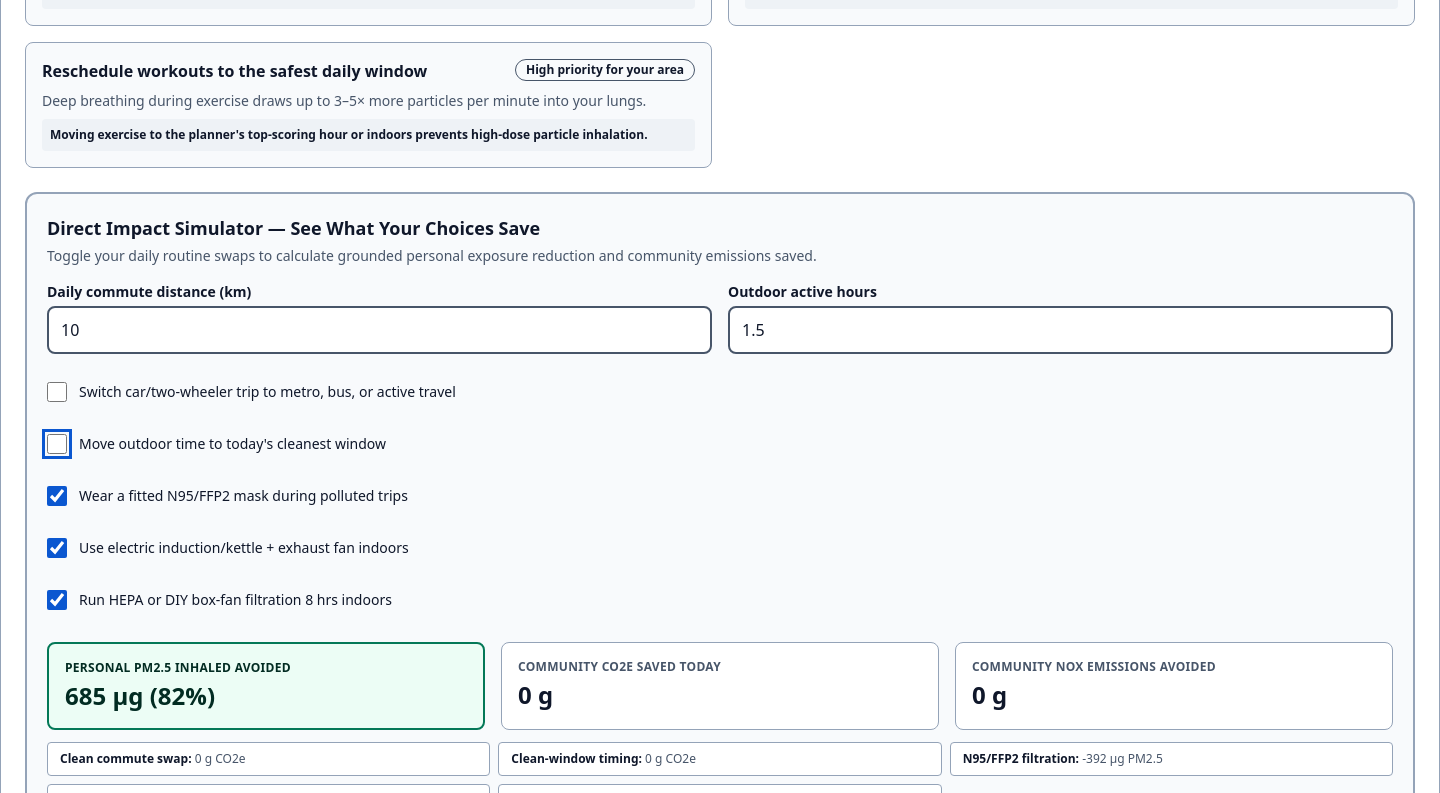
Scenario: RoutinesImpactSection calculates toggles, clamps inputs, and passes axe
Earlier steps of the test are not shown.
(page scrolled)
Step 1. Click the checkbox labelled "Wear a fitted N95/FFP2 mask during polluted trips" → [57, 496], box [47,486,67,506]
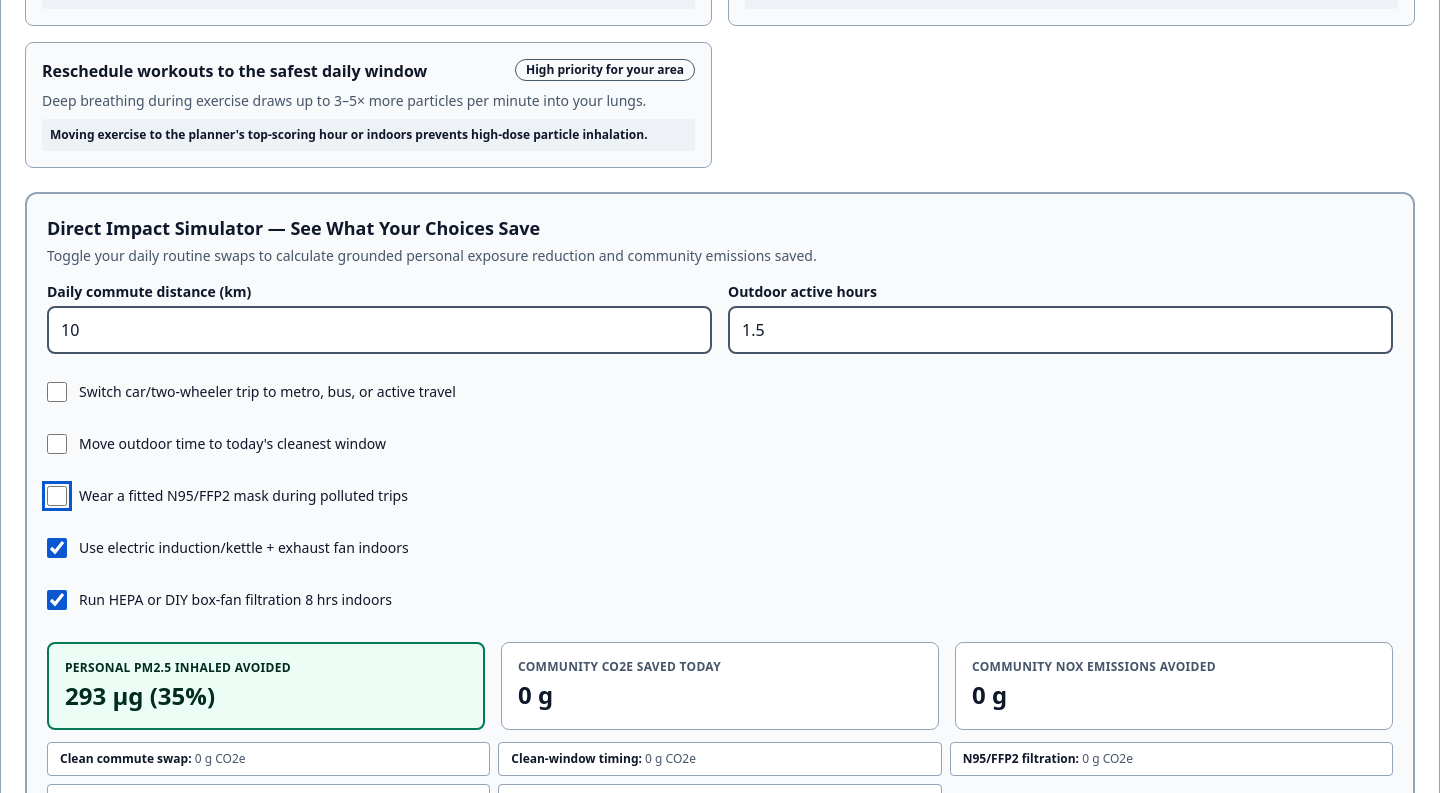
Step 2. Click the checkbox labelled "Use electric induction/kettle + exhaust fan indoors" → [57, 548], box [47,538,67,558]
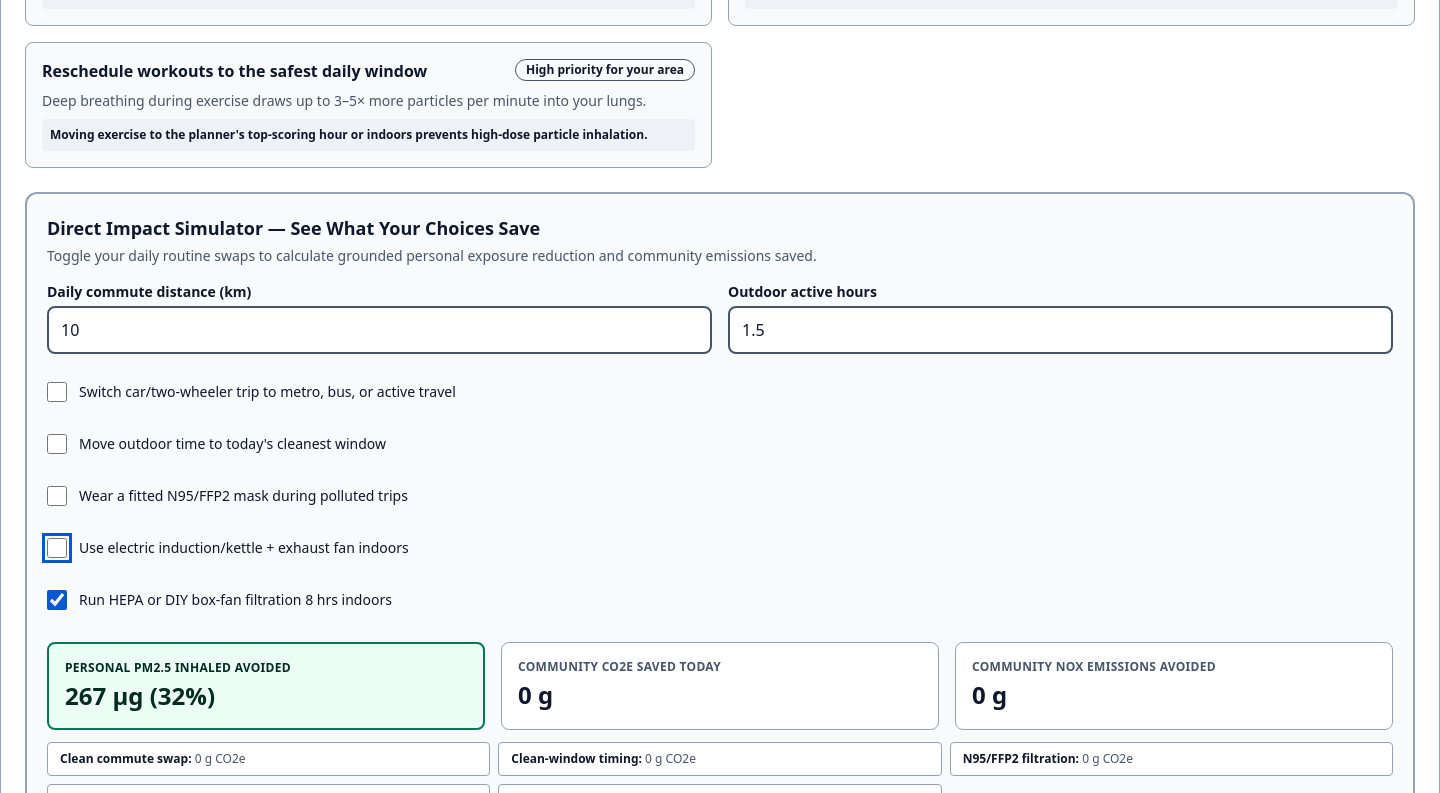
Step 3. Click the checkbox labelled "Run HEPA or DIY box-fan filtration 8 hrs indoors" → [57, 600], box [47,590,67,610]
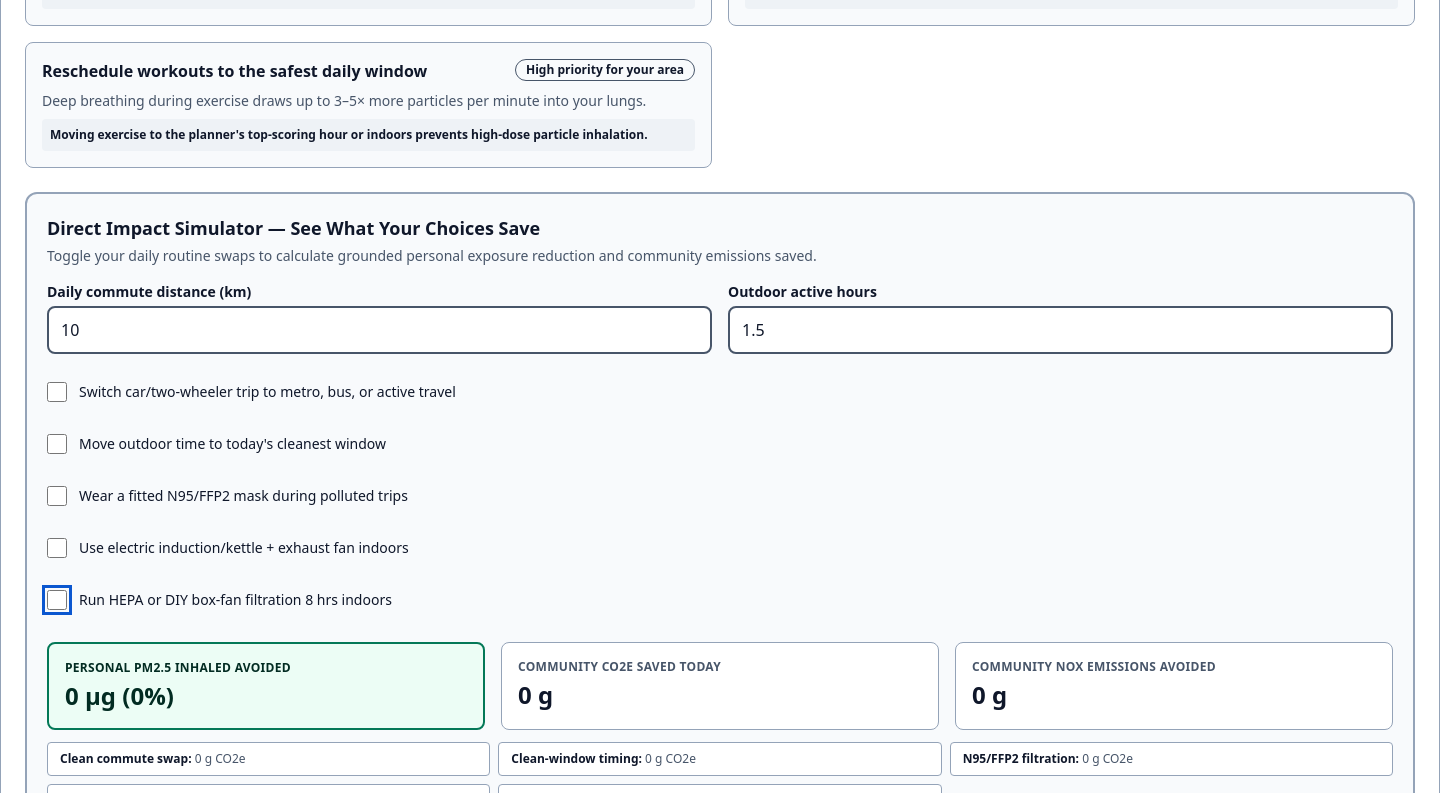
Step 4. Replace the text in the number field labelled "Daily commute distance (km)" with "200" → [380, 330], box [47,306,712,354]
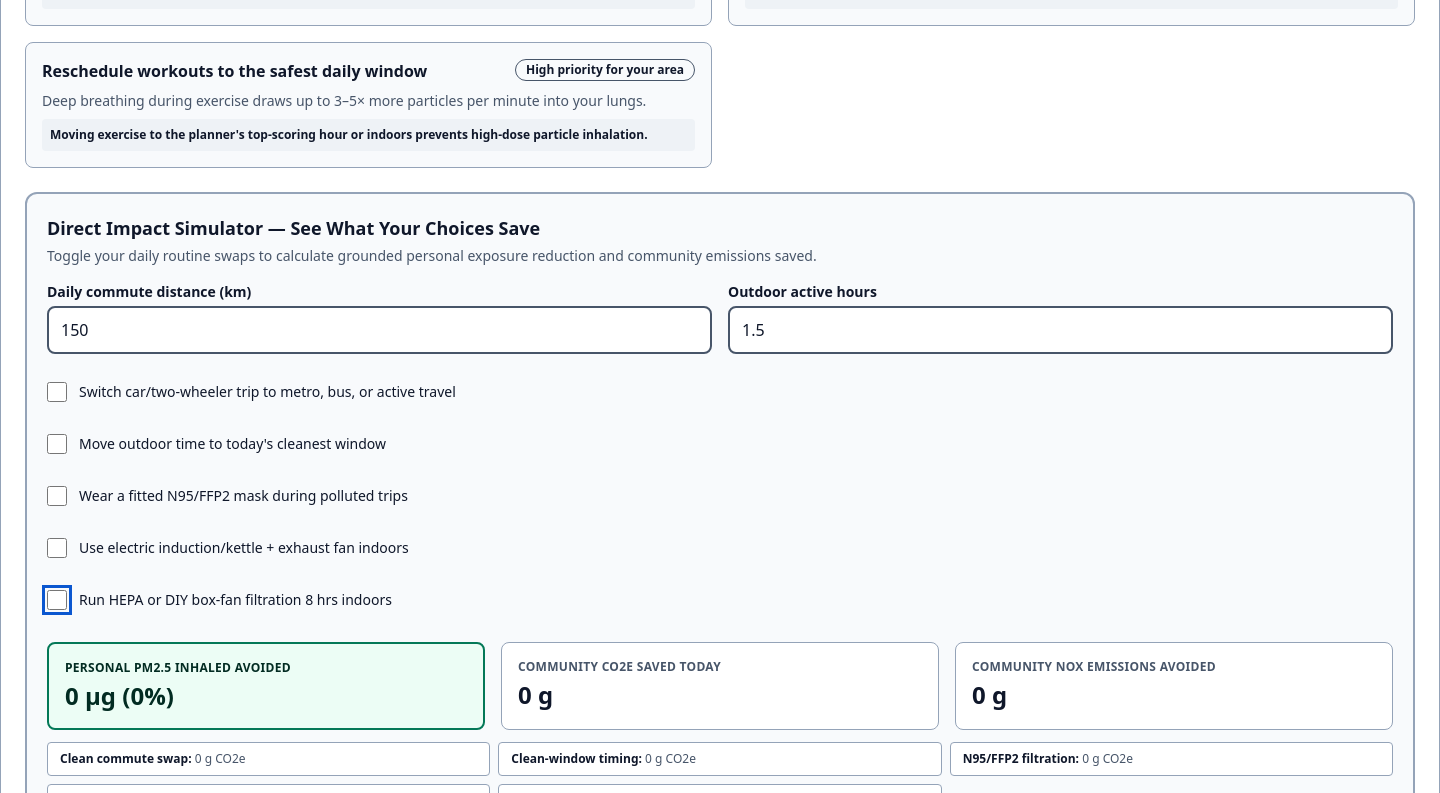
Expected: the number field labelled "Daily commute distance (km)" holds "150"
Step 5. Clear the number field labelled "Daily commute distance (km)" → [380, 330], box [47,306,712,354]
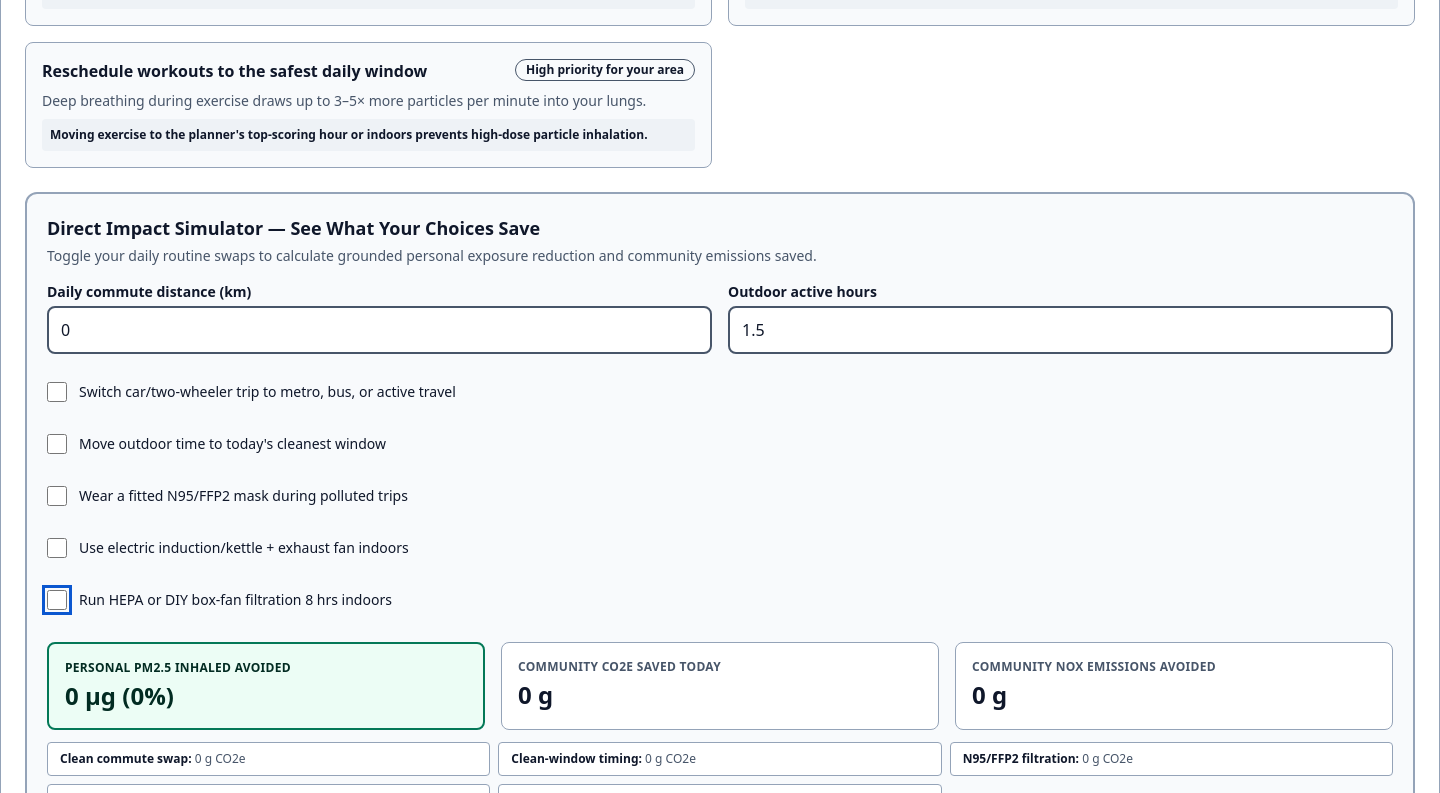
Expected: the number field labelled "Daily commute distance (km)" holds "0", [47,306,712,354]
Step 6. Replace the text in the number field labelled "Outdoor active hours" with "2" → [1060, 330], box [728,306,1393,354]
Step 7. Clear the number field labelled "Outdoor active hours" → [1060, 330], box [728,306,1393,354]
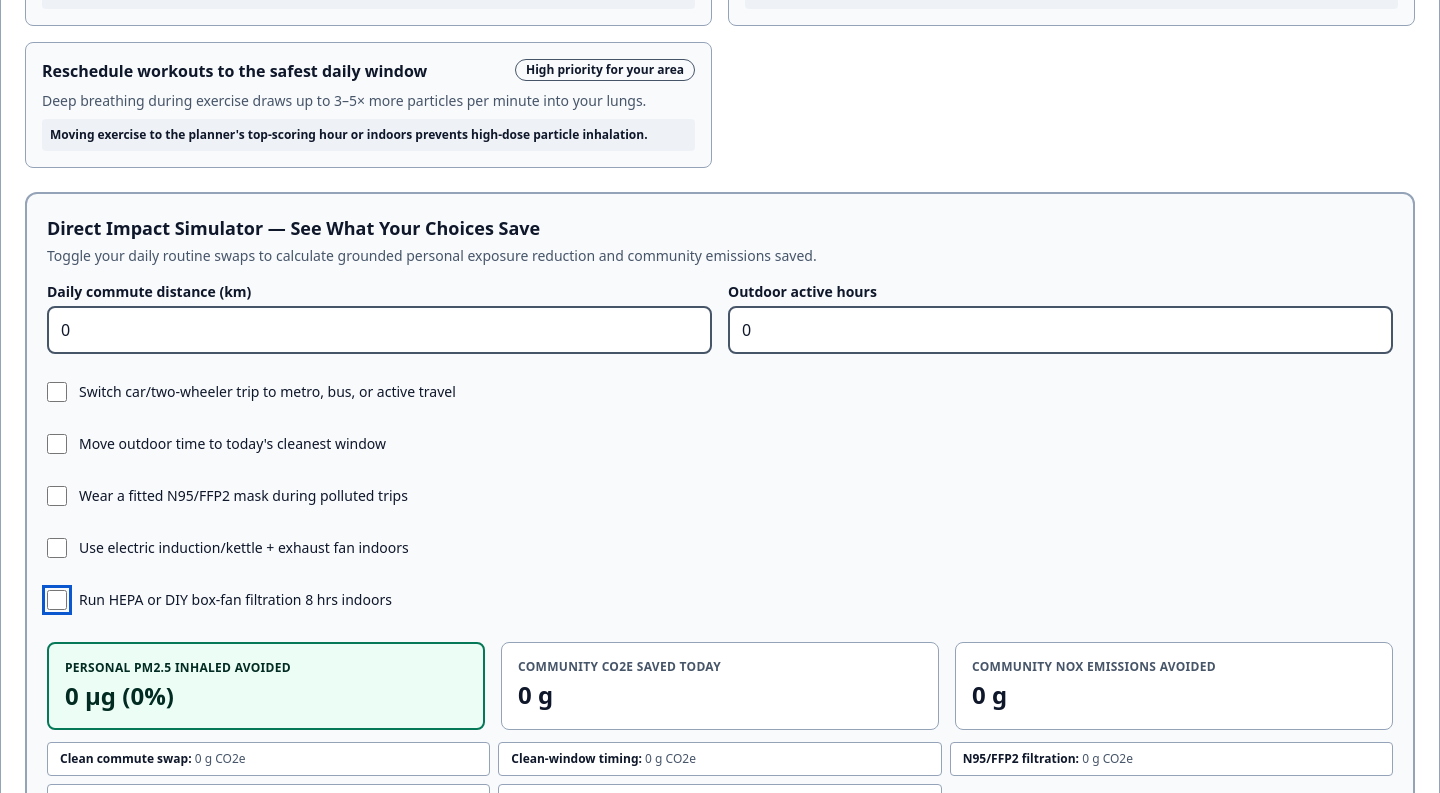
Expected: the number field labelled "Outdoor active hours" holds "0", [728,306,1393,354]
